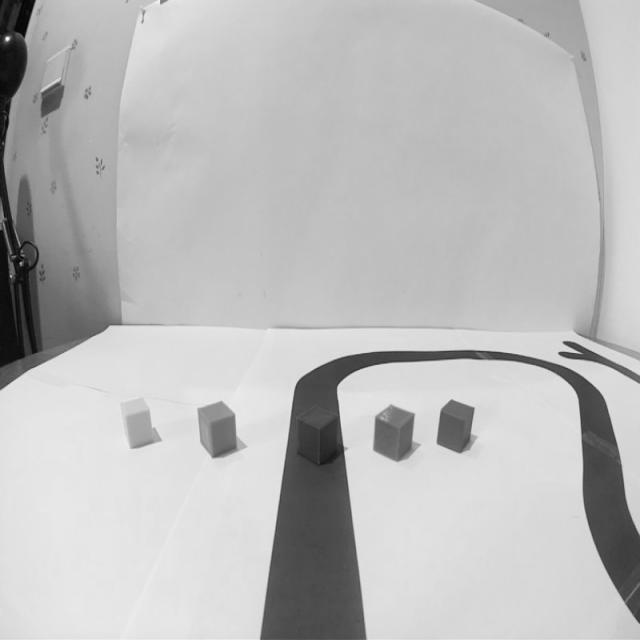cube: (296, 404, 342, 465), (372, 403, 416, 463), (197, 400, 238, 460), (436, 398, 475, 456), (119, 397, 155, 450)
lineStraight: (244, 490, 379, 640)
